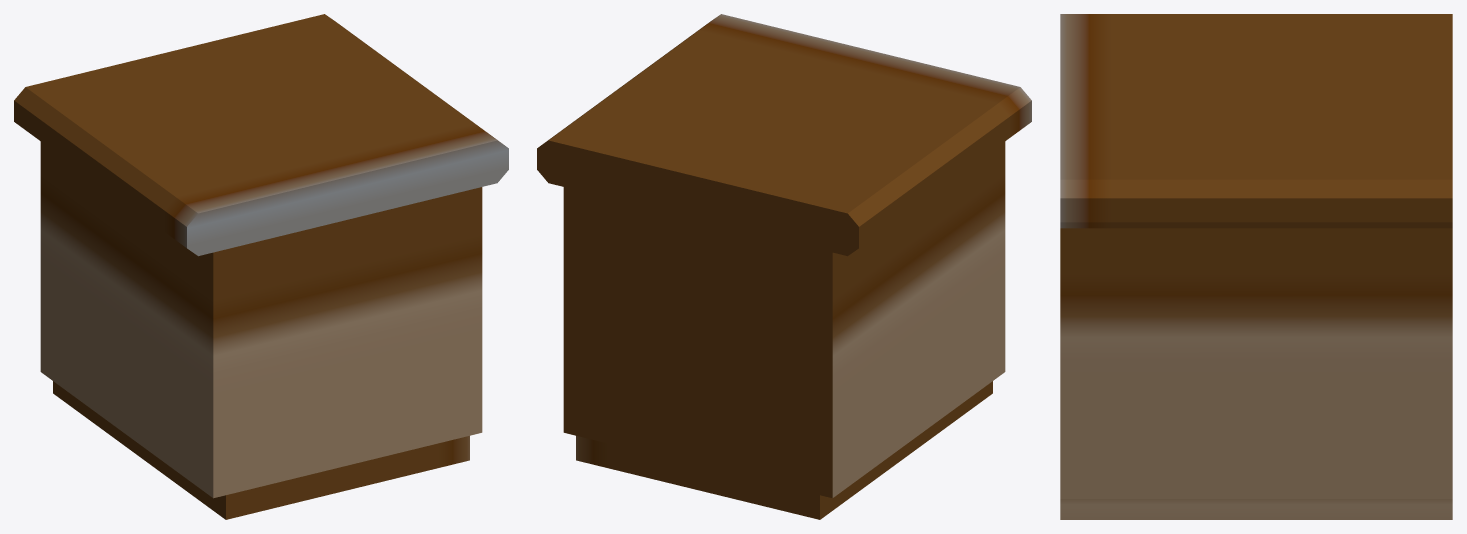
The model's file is SM_Bench_Floating.fbx.
3 renders of one model, left to right at view 1: azimuth 30°, elevation 25°; view 2: azimuth 150°, elevation 25°; view 3: azimuth 270°, elevation 25°, orthographic. The views are drawn at different scales.
Parts seen in each view (by area): view 1: SM_Bench_Floating; view 2: SM_Bench_Floating; view 3: SM_Bench_Floating.
Boxes of the visible parts, left/top/right/bottom form: SM_Bench_Floating: left=14, top=14, right=508, bottom=519; SM_Bench_Floating: left=537, top=14, right=1031, bottom=519; SM_Bench_Floating: left=1060, top=14, right=1452, bottom=519.
Size of the model in its own units: 1.08 by 1 by 1.
